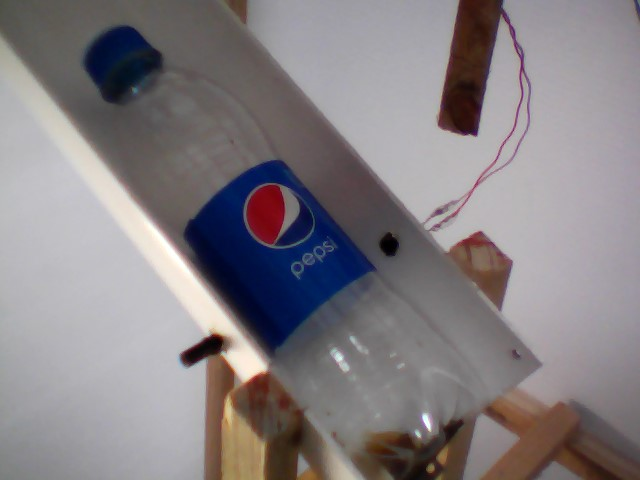plastico: (78, 14, 497, 480)
